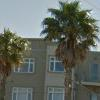Palm tree: (40, 2, 100, 99)
